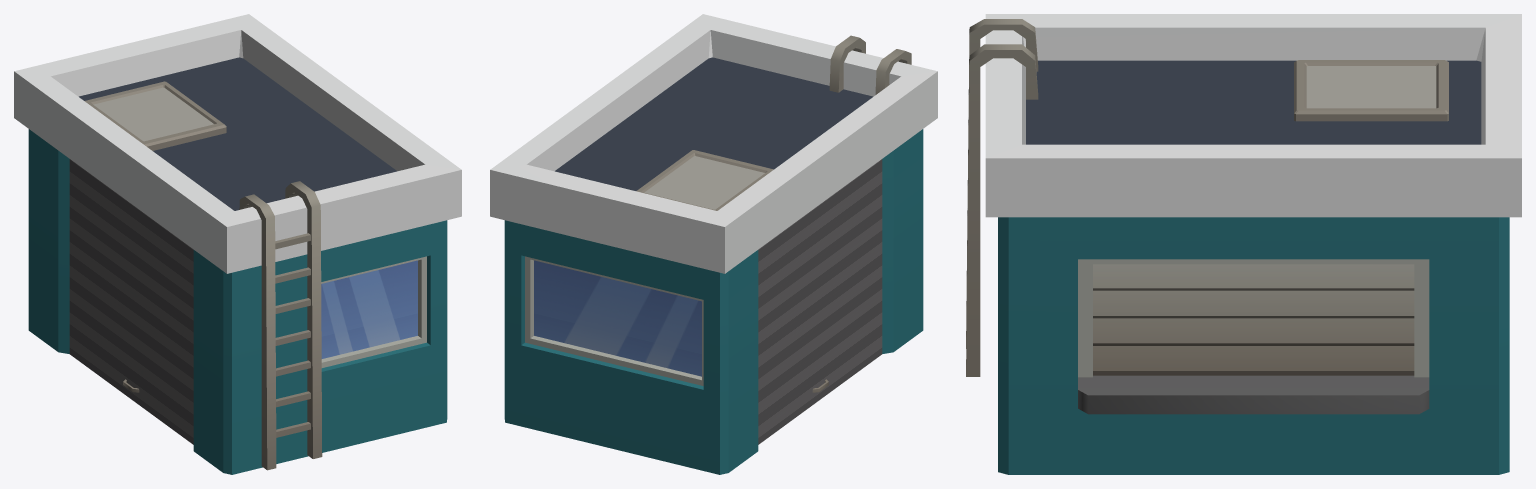
Rendered from Kiosk_1_E.glb.
3 views of the same model, side by side, from view 1: azimuth 30°, elevation 25°; view 2: azimuth 150°, elevation 25°; view 3: azimuth 270°, elevation 25° (orthographic). The views are drawn at different scales.
Visible parts, largest first — view 1: Kiosk_1_E; view 2: Kiosk_1_E; view 3: Kiosk_1_E.
Part boxes in pixels (<box>): Kiosk_1_E: <box>14,14,461,474</box>; Kiosk_1_E: <box>490,14,937,474</box>; Kiosk_1_E: <box>966,14,1521,474</box>.
Bounding box in the file's own units: 2.97 × 3.04 × 4.54.
4 materials, 4 textured.
